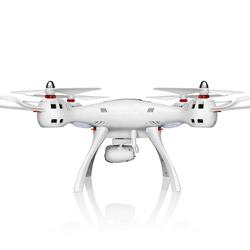drone: (2, 77, 250, 194)
